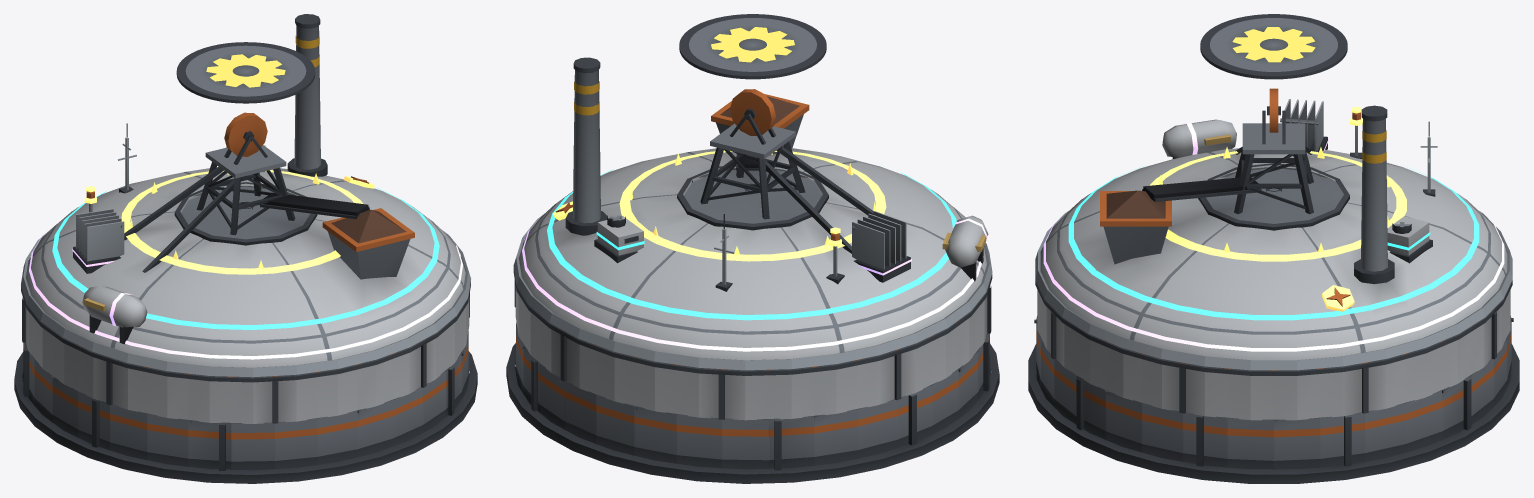
File: mine_s_far.glb
The picture shows the model from 3 angles, left to right: view 1: azimuth 30°, elevation 25°; view 2: azimuth 150°, elevation 25°; view 3: azimuth 270°, elevation 25°; orthographic projection. The views are drawn at different scales.
Parts seen in each view (by area): view 1: Roof, Base, L4, L2, L5, L3; view 2: Roof, Base, L4, L2, L3, L5; view 3: Roof, Base, L2, L4, L3, L5.
Boxes of the visible parts, x1,y1,x2,y2 form: Roof: [21, 14, 470, 423]; Base: [14, 331, 477, 483]; L4: [29, 209, 462, 359]; L2: [21, 123, 470, 377]; L5: [84, 170, 374, 274]; L3: [52, 145, 439, 329]; Roof: [513, 14, 992, 420]; Base: [506, 322, 999, 483]; L4: [522, 211, 988, 351]; L2: [513, 207, 992, 370]; L3: [547, 169, 956, 320]; L5: [553, 150, 886, 284]; Roof: [1035, 14, 1512, 420]; Base: [1028, 316, 1519, 483]; L2: [1035, 121, 1512, 370]; L4: [1043, 99, 1504, 351]; L3: [1068, 165, 1479, 320]; L5: [1149, 106, 1406, 311].
Size of the model in its own units: 11.74 by 8.84 by 11.74.
